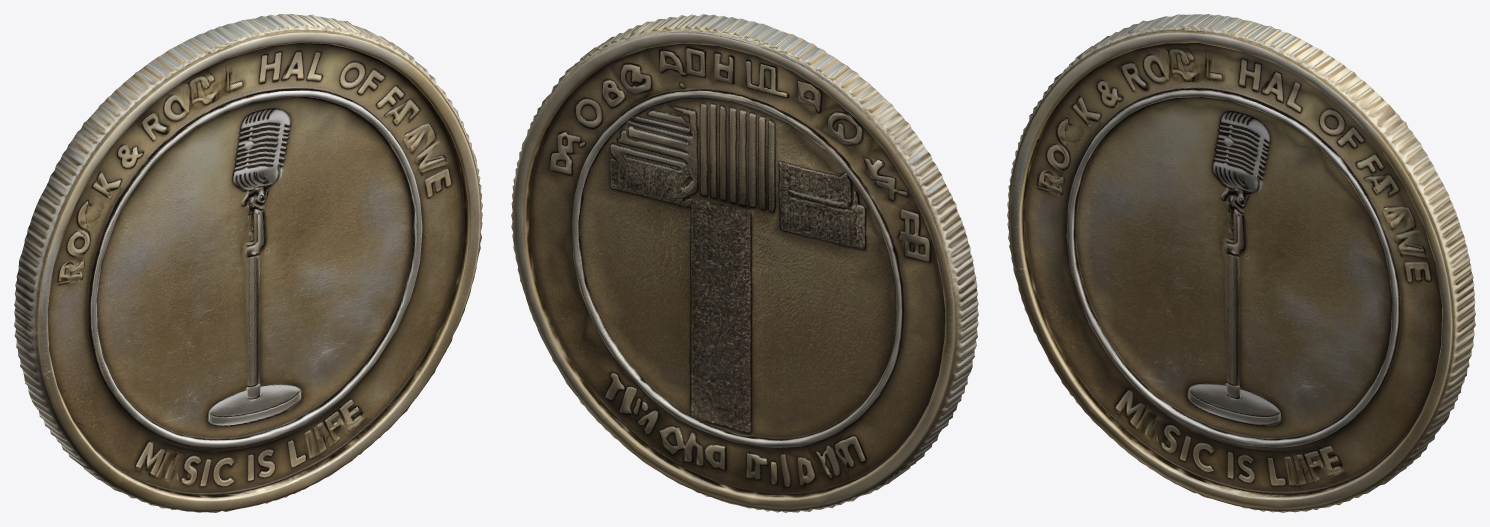
File: Prop_Coin_Encore_01.glb
The picture shows the model from 3 angles, left to right: view 1: azimuth 30°, elevation 25°; view 2: azimuth 150°, elevation 25°; view 3: azimuth 330°, elevation 25°; orthographic projection.
Parts seen in each view (by area): view 1: mesh_node; view 2: mesh_node; view 3: mesh_node.
Boxes of the visible parts, left/top/right/bottom form: mesh_node: left=14, top=14, right=482, bottom=512; mesh_node: left=511, top=14, right=978, bottom=512; mesh_node: left=1007, top=14, right=1475, bottom=512.
Bounding box in the file's own units: 1.99 × 1.98 × 0.1629.
1 material, 1 textured.
